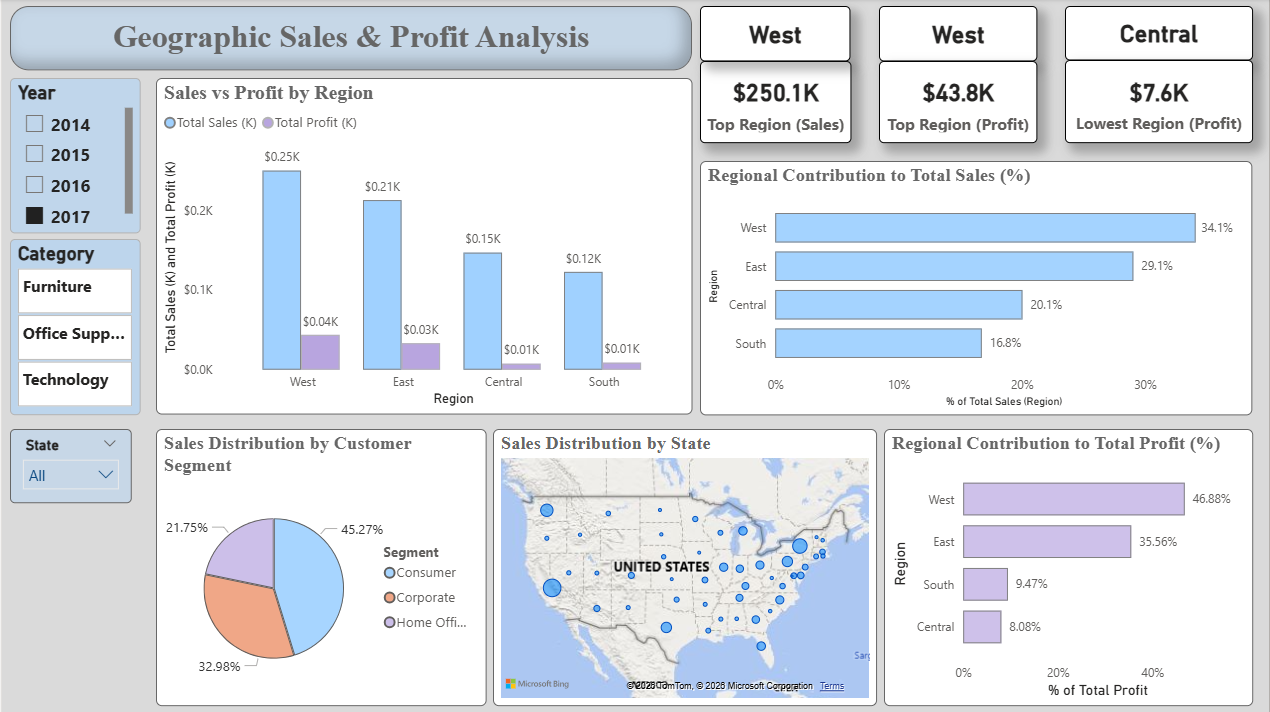

The dashboard page shown, as its layout file describes it:
{"tool":"powerbi","page":{"name":"GeographicSales & Profit Analysis","canvas":[1280,720],"ordinal":5},"visuals":[{"type":"clusteredColumnChart","title":"Sales vs Profit by Region","fields":{"Category":["Dim_Geography.Region"],"Y":["All Measures.Total Sales (K)","All Measures.Total Profit (K)"]},"box":[155.3,80.2,542,340],"z":0},{"type":"map","title":"Sales Distribution by State","fields":{"Category":["Dim_Geography.State"],"Size":["All Measures.Total Sales (K)"]},"box":[496.4,434.4,387.8,280.2],"z":1000},{"type":"card","fields":{"Values":["All Measures.Top Region Sales Value"]},"box":[705.5,62.9,153.3,83.2],"z":2000},{"type":"card","title":"Top Sal Region","fields":{"Values":["All Measures.Top Region Name (Sales)"]},"box":[705.5,7,152.3,55.8],"z":3000},{"type":"card","fields":{"Values":["All Measures.Top Region Name (Profit)"]},"box":[885.6,7.1,160.4,55.8],"z":4000},{"type":"card","fields":{"Values":["All Measures.Top Region Profit Value"]},"box":[886.2,62.9,160.4,83.2],"z":5000},{"type":"card","fields":{"Values":["All Measures.Lowest Region Name (Profit)"]},"box":[1073.9,7.1,189.8,54.8],"z":6000},{"type":"card","fields":{"Values":["All Measures.Lowest Region Profit Value"]},"box":[1073.9,61.9,189.8,84.3],"z":7000},{"type":"slicer","title":"Year","fields":{"Values":["Calendar.Year"]},"box":[8.1,80.2,132,157.3],"z":8000},{"type":"advancedSlicerVisual","fields":{"Values":["Dim_Product.Category"]},"box":[8.1,242.6,132,177.6],"z":9000},{"type":"slicer","fields":{"Values":["Dim_Geography.State"]},"box":[8.1,434.4,122.8,75.1],"z":10000},{"type":"barChart","title":"Regional Contribution to Total Sales (%)","fields":{"Category":["Dim_Geography.Region"],"Y":["All Measures.% of Total Sales (Region)"]},"box":[705.5,163.4,558.3,256.8],"z":11000},{"type":"pieChart","title":"Sales Distribution by Customer Segment","fields":{"Category":["Dim_Customer.Segment"],"Y":["All Measures.Total Sales"]},"box":[155.3,434.4,334,280.2],"z":12000},{"type":"clusteredBarChart","title":"Regional Contribution to Total Profit (%)","fields":{"Category":["Dim_Geography.Region"],"Y":["All Measures.% of Total Profit (Region)"]},"box":[891.2,434.4,372.5,280.2],"z":13000},{"type":"textbox","box":[8.1,7.1,689.2,65],"z":14001}]}

Visuals, with their boxes in screenshot pixels (x1, y1, x2, y2), scaled from the page's 1280x720 canvas onto the 1270x712 screenshot:
"Sales vs Profit by Region" clusteredColumnChart: 154,79,692,416
"Sales Distribution by State" map: 493,430,877,707
card - All Measures.Top Region Sales Value: 700,62,852,144
"Top Sal Region" card: 700,7,851,62
card - All Measures.Top Region Name (Profit): 879,7,1038,62
card - All Measures.Top Region Profit Value: 879,62,1038,144
card - All Measures.Lowest Region Name (Profit): 1066,7,1254,61
card - All Measures.Lowest Region Profit Value: 1066,61,1254,145
"Year" slicer: 8,79,139,235
advancedSlicerVisual - Dim_Product.Category: 8,240,139,416
slicer - Dim_Geography.State: 8,430,130,504
"Regional Contribution to Total Sales (%)" barChart: 700,162,1254,416
"Sales Distribution by Customer Segment" pieChart: 154,430,485,707
"Regional Contribution to Total Profit (%)" clusteredBarChart: 884,430,1254,707
textbox: 8,7,692,71
